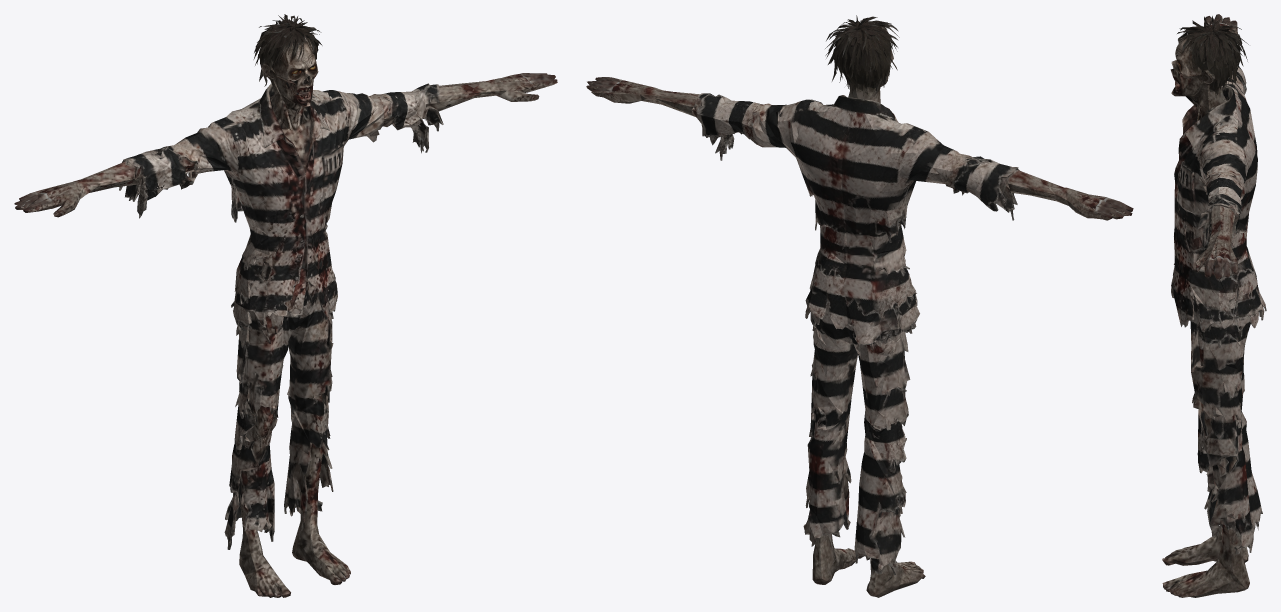
File: Meshy_AI_zombie_prigione_smunt_1018143349_texture.fbx
The picture shows the model from 3 angles, left to right: view 1: azimuth 30°, elevation 25°; view 2: azimuth 150°, elevation 25°; view 3: azimuth 270°, elevation 25°; orthographic projection.
Visible parts, largest first — view 1: output_unwrapped; view 2: output_unwrapped; view 3: output_unwrapped.
Boxes of the visible parts, <box> form: output_unwrapped: <box>14,14,557,597</box>; output_unwrapped: <box>586,15,1133,597</box>; output_unwrapped: <box>1162,14,1266,597</box>.
Size of the model in its own units: 190 by 188 by 31.89.
1 material, 1 textured.
